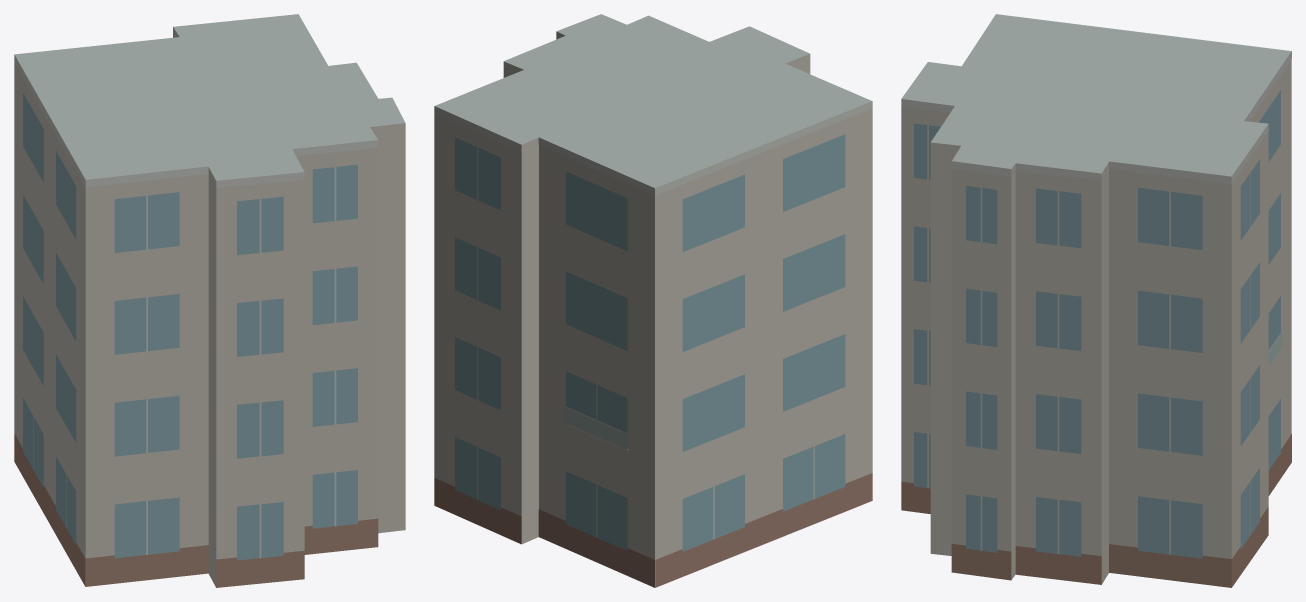
The model's file is survey-upis-32700167.glb.
3 renders of one model, left to right at view 1: azimuth 30°, elevation 25°; view 2: azimuth 150°, elevation 25°; view 3: azimuth 270°, elevation 25°, orthographic. The views are drawn at different scales.
Visible parts, largest first — view 1: survey-upis-32700167.tmp; view 2: survey-upis-32700167.tmp; view 3: survey-upis-32700167.tmp.
Part boxes in pixels (left/top/right/bottom): survey-upis-32700167.tmp: left=14, top=14, right=405, bottom=587; survey-upis-32700167.tmp: left=434, top=14, right=872, bottom=587; survey-upis-32700167.tmp: left=901, top=14, right=1291, bottom=587.
Size of the model in its own units: 11.2 by 13.2 by 11.37.
